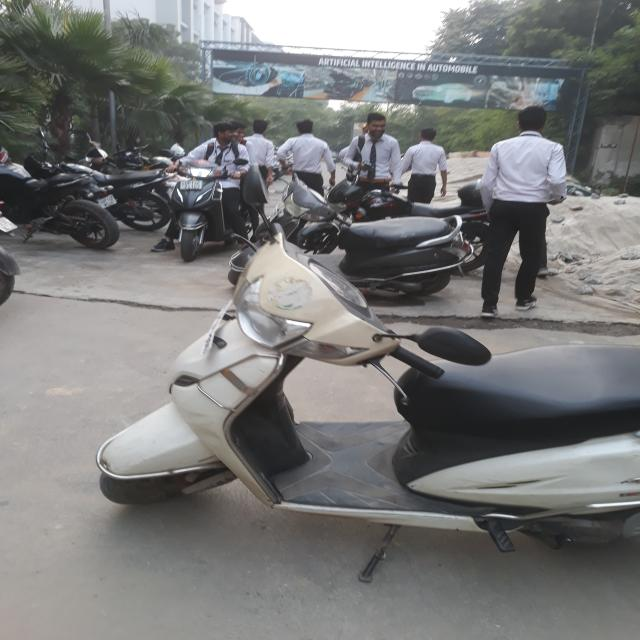unsafe: (469, 100, 575, 331), (198, 122, 252, 250), (348, 108, 402, 195), (400, 126, 452, 208), (280, 116, 336, 192), (348, 112, 402, 190)
